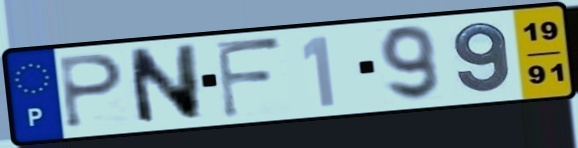1: (300, 33, 337, 109)
9: (375, 24, 445, 104), (449, 18, 515, 97)
F: (212, 35, 286, 121)
N: (124, 41, 205, 128)
P: (57, 52, 127, 131)
